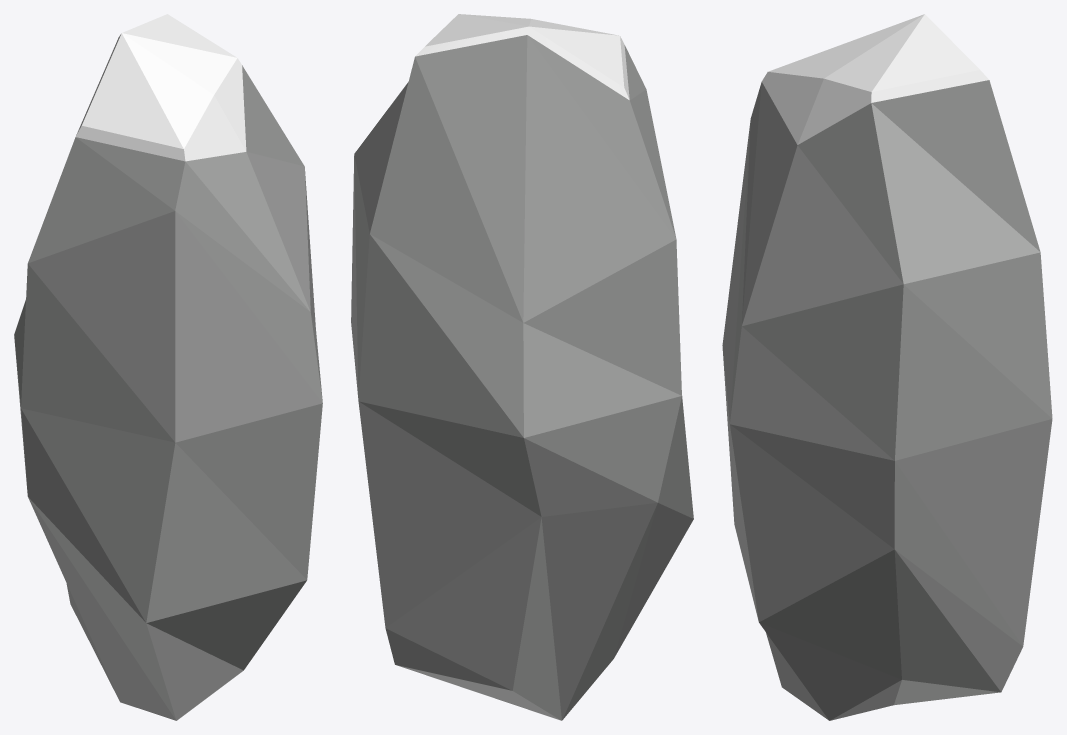
Rendered from Rock_Mid_Snow_2.fbx.
3 views of the same model, side by side, from view 1: azimuth 30°, elevation 25°; view 2: azimuth 150°, elevation 25°; view 3: azimuth 270°, elevation 25° (orthographic). The views are drawn at different scales.
Visible parts, largest first — view 1: Rock_Mid_Snow_2; view 2: Rock_Mid_Snow_2; view 3: Rock_Mid_Snow_2.
Boxes of the visible parts, x1,y1,x2,y2 form: Rock_Mid_Snow_2: (14,14,322,720); Rock_Mid_Snow_2: (351,14,693,720); Rock_Mid_Snow_2: (722,14,1052,720).
Size of the model in its own units: 2 by 4.14 by 1.77.
